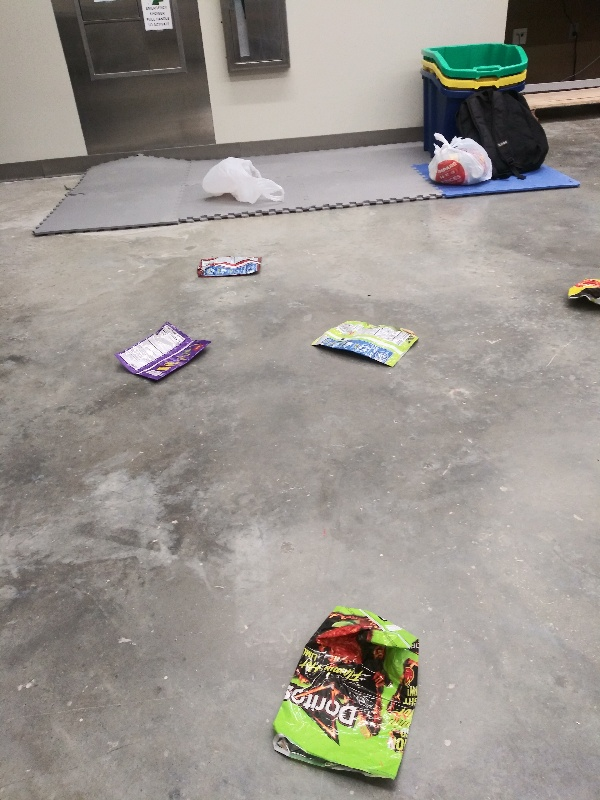bag: (263, 601, 426, 787), (111, 317, 217, 384), (309, 319, 424, 369), (190, 250, 266, 281), (559, 271, 600, 311)
